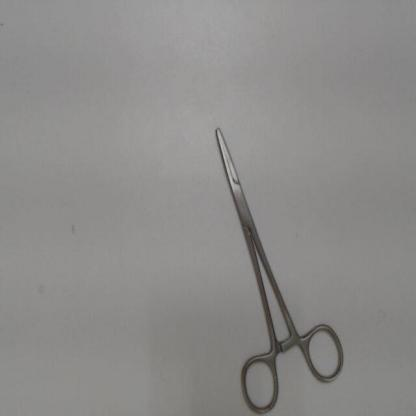Mayo Needle Holder: (207, 115, 350, 414)
